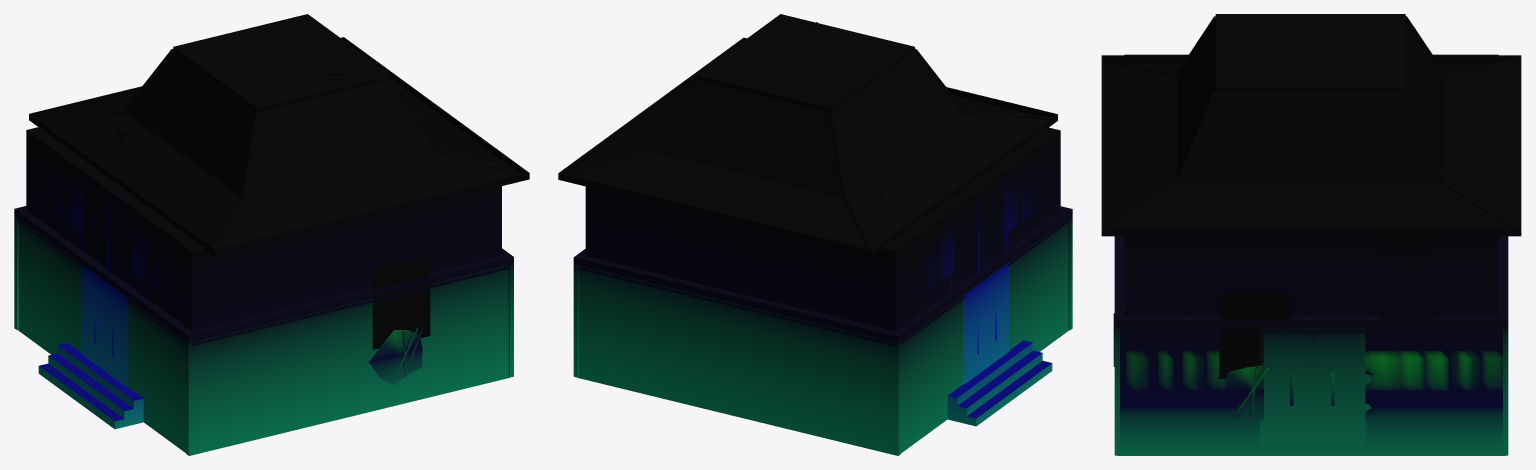
The model's file is l_residencecore_damaged.glb.
3 renders of one model, left to right at view 1: azimuth 30°, elevation 25°; view 2: azimuth 150°, elevation 25°; view 3: azimuth 270°, elevation 25°, orthographic. The views are drawn at different scales.
Visible parts, largest first — view 1: lod0; view 2: lod0; view 3: lod0.
Boxes of the visible parts, bbox=[...] form: lod0: bbox=[14, 14, 529, 455]; lod0: bbox=[558, 14, 1072, 455]; lod0: bbox=[1101, 14, 1521, 455].
Size of what is drawn, in the model's own units: 26.39 by 20.63 by 23.47.
